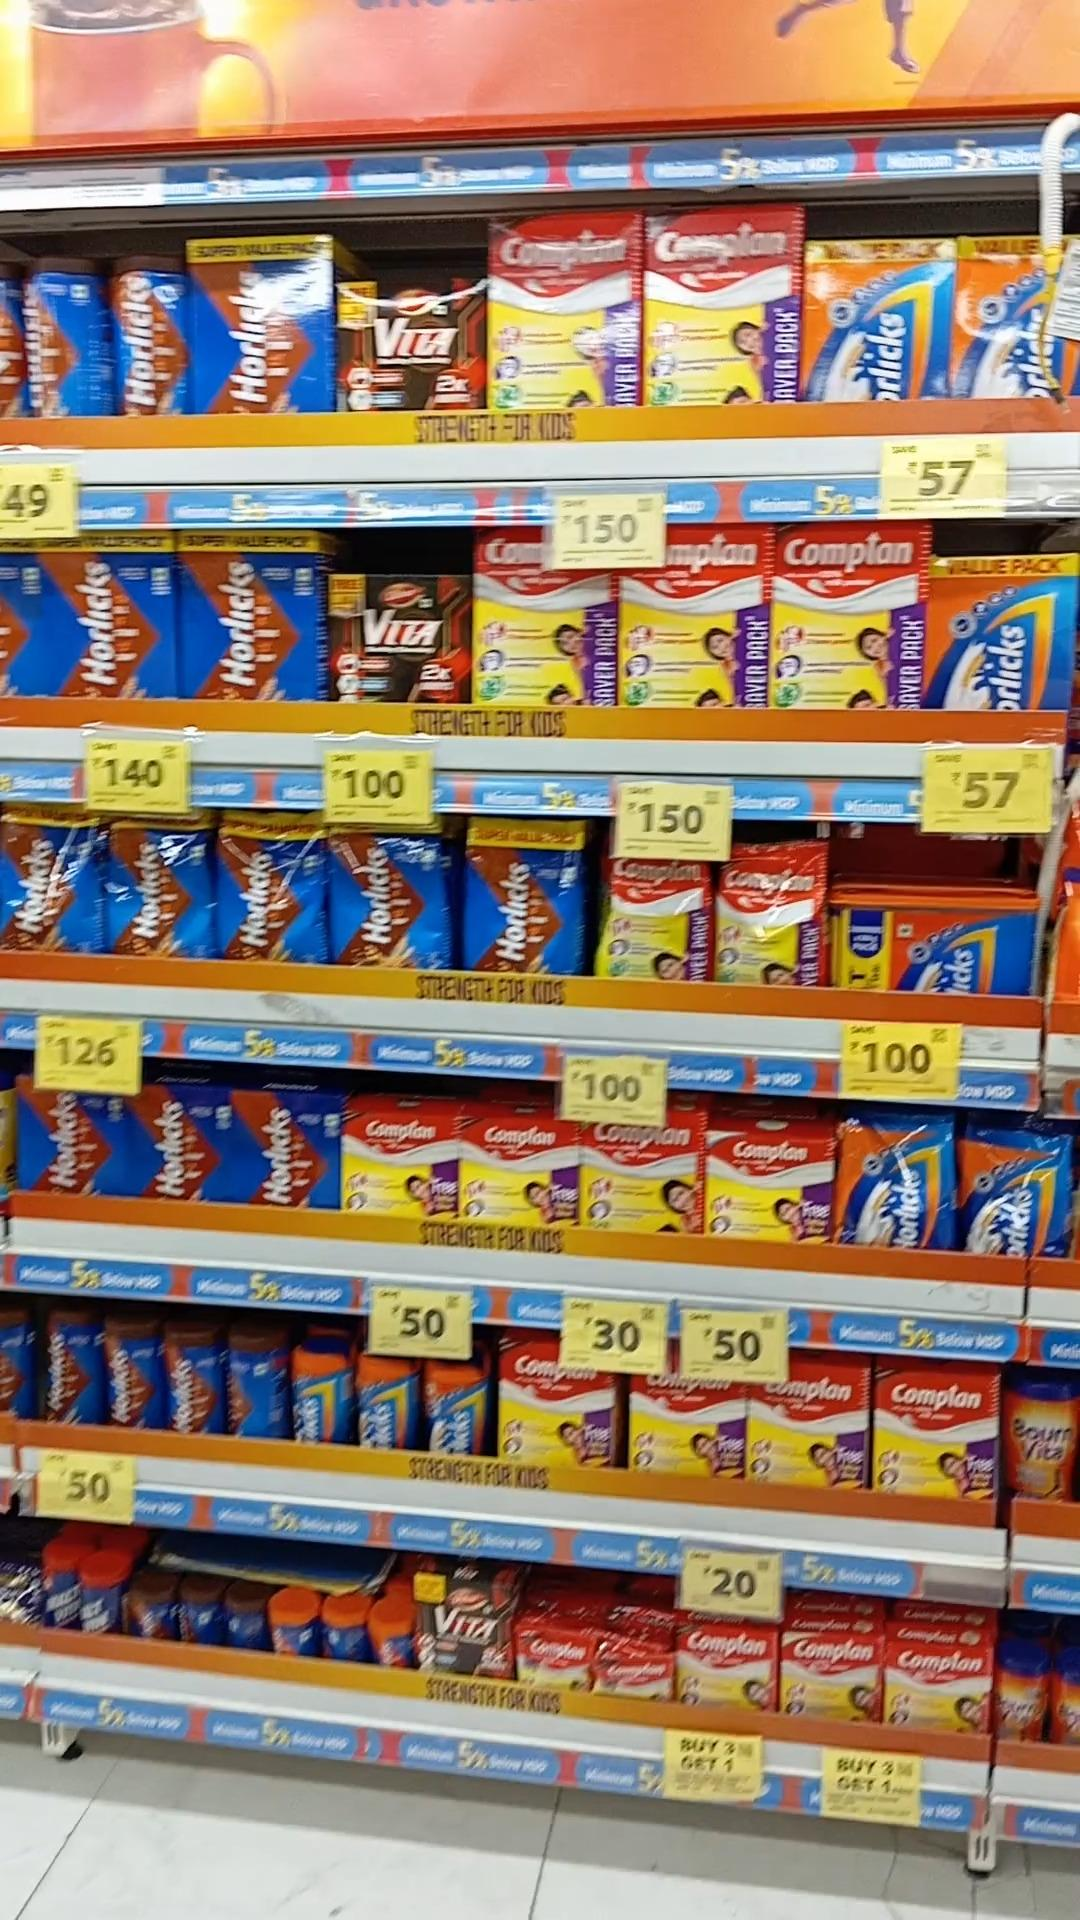BOURN_VITA_200_G_JAR: (993, 1647, 1047, 1742)
BOURN_VITA_500_G_JAR: (1004, 1375, 1080, 1511)
COMPLAN_CHOCOLATE_1_KG_PACK: (488, 212, 634, 406), (645, 214, 791, 401), (774, 525, 922, 708), (622, 531, 766, 709), (477, 535, 616, 709)
COMPLAN_CHOCOLATE_200_GMS_PACK: (675, 1621, 783, 1713)
COMPLAN_CHOCOLATE_500_GMS_PACK: (872, 1370, 996, 1505), (497, 1337, 609, 1462), (338, 1105, 456, 1222), (460, 1117, 575, 1229)
COMPLAN_CREAMY_CLASSIC_500_G_PACK: (700, 1129, 833, 1246)
COMPLAN_KESAR_BADAM_200_GMS_PACK: (785, 1630, 880, 1725)
COMPLAN_RC_POUCH_700_GMS_12: (716, 845, 820, 985), (605, 857, 707, 980)
HORLICK_CHOCOLATE_1_KG_JAR: (111, 255, 185, 418), (15, 257, 78, 419)
HORLICK_CHOCOLATE_1_KG_PACK: (190, 239, 328, 417), (177, 537, 301, 700), (67, 531, 178, 699)
HORLICK_CHOCOLATE_500_G_JAR: (158, 1331, 216, 1441), (44, 1309, 96, 1428), (102, 1320, 154, 1429)
HORLICK_CHOCOLATE_500_G_PACK: (225, 1093, 332, 1209), (16, 1077, 108, 1196), (124, 1087, 218, 1203)
HORLICK_CHOCOLATE_750_G_POUCH: (463, 814, 583, 969), (330, 822, 450, 969), (215, 806, 324, 959), (108, 814, 208, 957), (0, 803, 99, 948)
HORLICK_CLASSIC_MALT_500_G_JAR: (419, 1358, 489, 1458), (287, 1348, 347, 1447), (352, 1354, 406, 1449)
HORLICK_CLASSIC_MALT_500_G_PACK: (927, 559, 1076, 712), (803, 241, 947, 398), (953, 237, 1060, 398)
HORLICK_CLASSIC_MALT_750_G_POUCH: (843, 1121, 951, 1251), (960, 1129, 1065, 1261)
HORLICK_MALT_1_KG_CONTAINER: (840, 907, 1036, 994)
